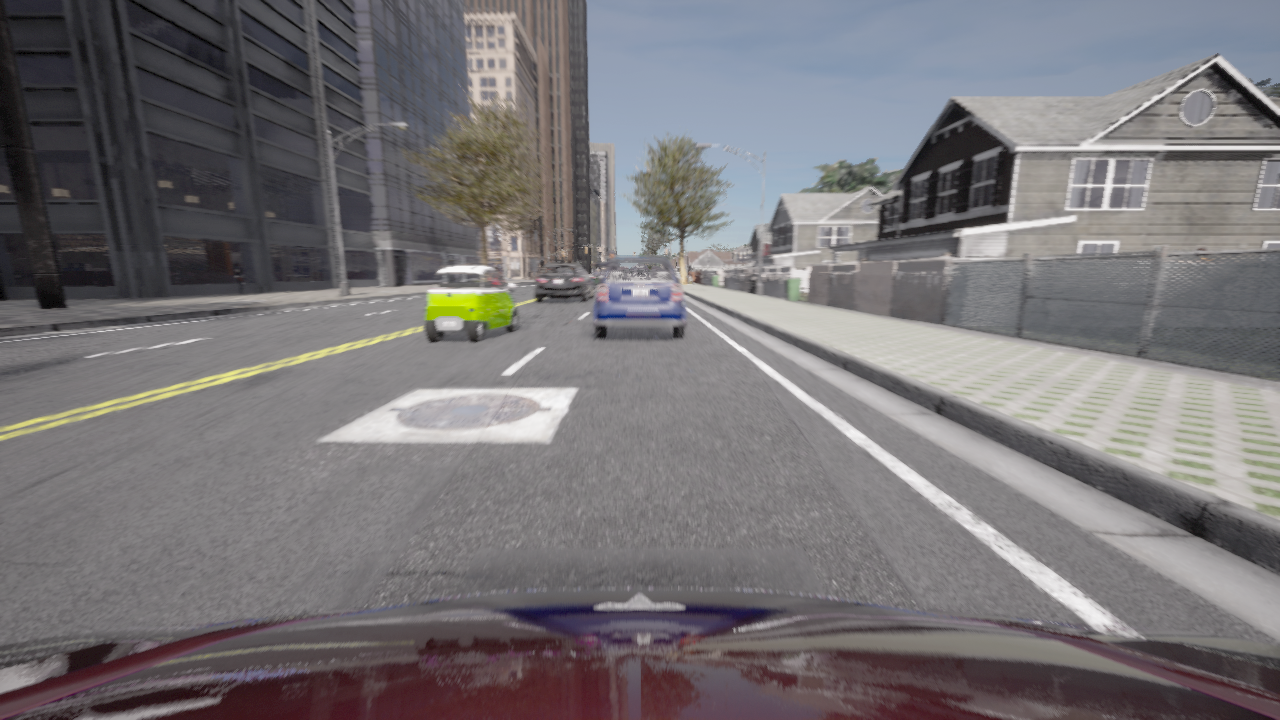cyclist: (0, 588, 1279, 719), (594, 256, 686, 338), (425, 265, 517, 342), (535, 263, 594, 302), (591, 270, 605, 286), (503, 279, 506, 284)
pedestrian: (234, 262, 245, 294), (592, 251, 614, 266), (1196, 247, 1207, 259)
